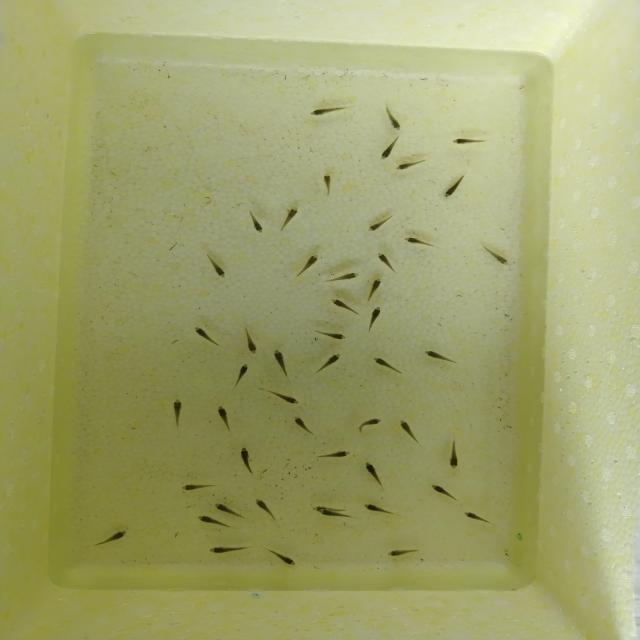fingerling: (416, 345, 460, 367), (263, 387, 305, 409), (293, 250, 325, 278), (268, 345, 294, 379), (439, 172, 468, 202), (266, 548, 307, 569), (313, 349, 346, 375), (440, 438, 466, 471), (93, 526, 130, 549), (199, 250, 228, 279), (210, 403, 238, 433), (458, 505, 494, 527), (276, 205, 304, 233), (478, 244, 512, 267), (240, 209, 270, 235), (238, 326, 262, 358), (202, 540, 250, 556), (301, 104, 352, 119), (426, 482, 464, 502), (235, 444, 258, 476), (349, 415, 384, 435), (326, 296, 360, 316), (379, 105, 405, 131), (193, 323, 219, 349), (395, 418, 421, 444), (362, 305, 387, 332), (308, 506, 356, 520), (362, 460, 385, 489), (368, 355, 403, 374), (308, 329, 355, 343), (230, 361, 252, 390), (168, 394, 185, 431), (362, 215, 393, 235), (289, 414, 317, 436), (313, 448, 354, 463), (380, 546, 422, 560), (361, 499, 395, 516), (375, 250, 396, 276), (174, 480, 219, 492), (252, 497, 276, 519), (399, 237, 438, 250), (449, 135, 490, 147), (364, 278, 384, 302), (388, 160, 427, 172), (212, 501, 241, 517), (378, 138, 399, 160), (319, 173, 336, 200), (330, 270, 362, 284), (194, 513, 212, 525)
